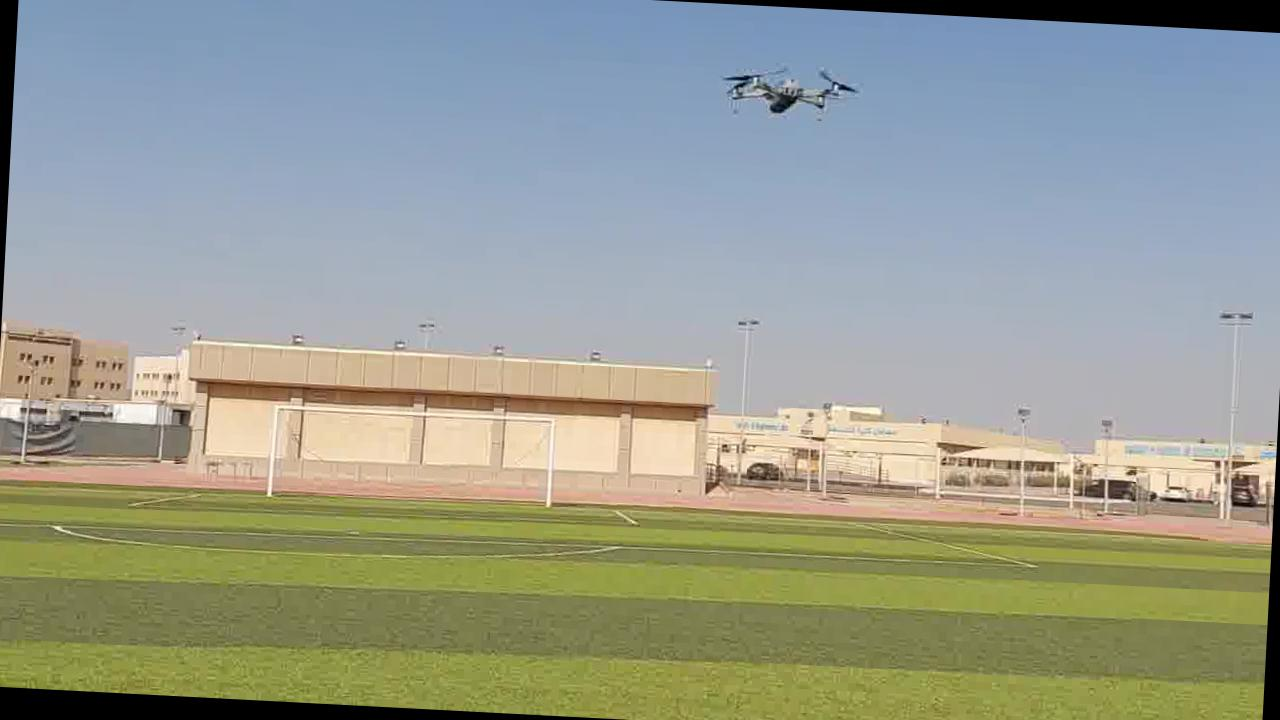drone: (718, 60, 854, 133)
